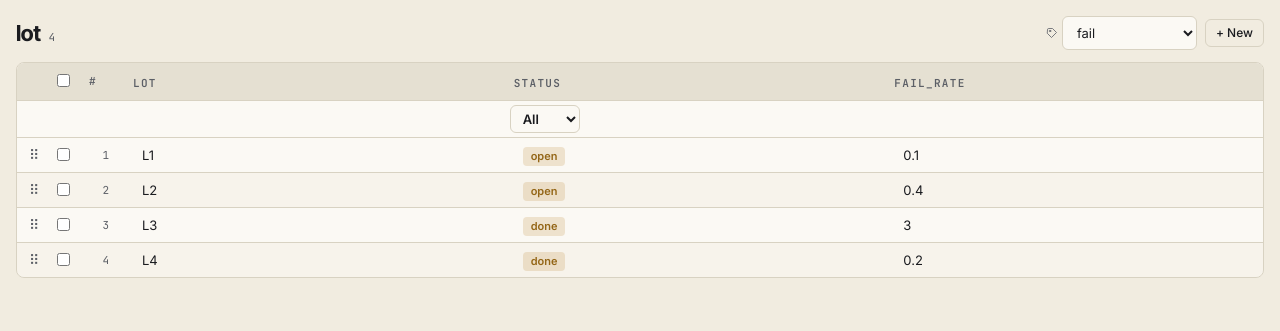
Test: a table on no marking keeps its multi-select › a view detached in the header goes back to batch select
Select "not linked" in the dropdown named "marking" at (1129, 33), box [1062,16,1197,50]
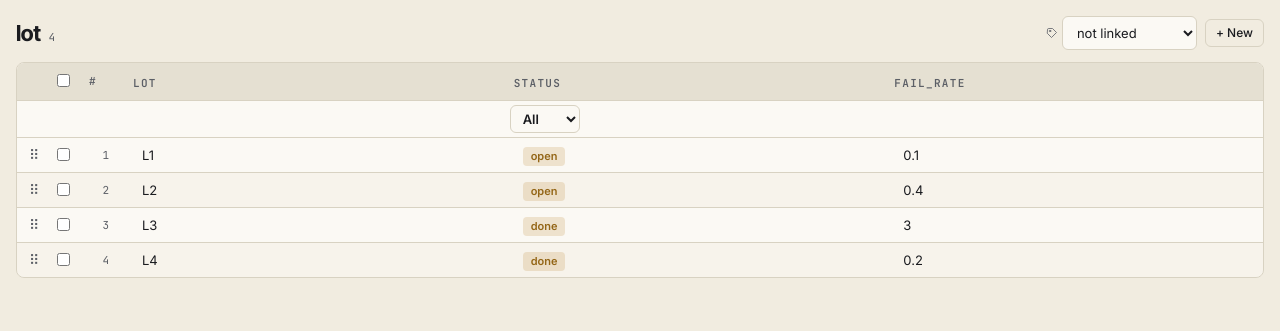
Click the checkbox named "select 1" at (64, 154), box [57,148,70,161]
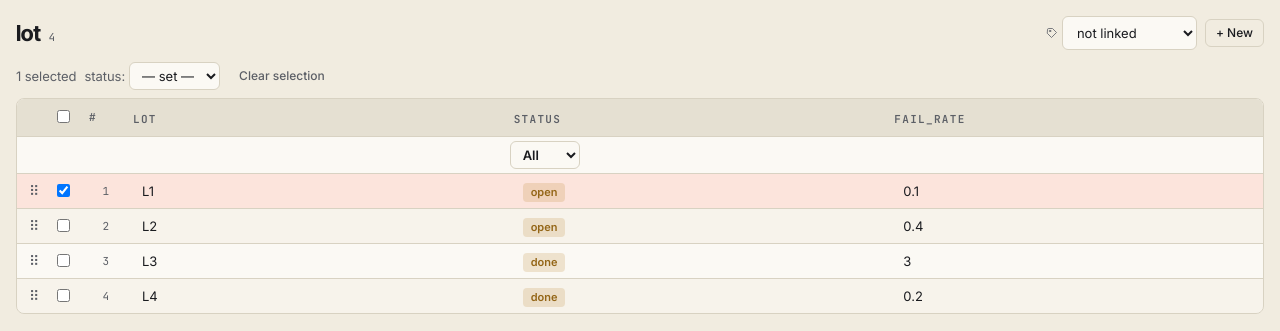
Expected: the element named "batch actions" shows "1 selected", [16,62,336,90]
